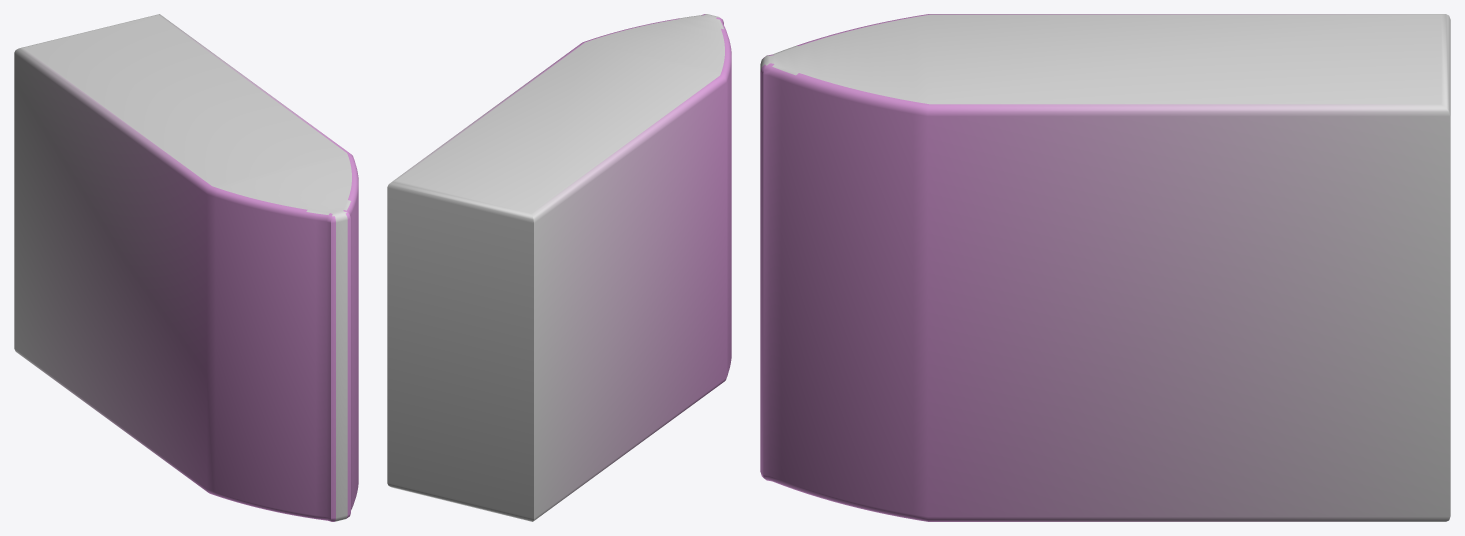
File: Kit_Lock_Latchbolt_Bored_DA.fbx
3 views of the same model, side by side, from view 1: azimuth 30°, elevation 25°; view 2: azimuth 150°, elevation 25°; view 3: azimuth 270°, elevation 25° (orthographic). The views are drawn at different scales.
Visible parts, largest first — view 1: Kit_Lock_Latchbolt_Bored_DA_LOD0; view 2: Kit_Lock_Latchbolt_Bored_DA_LOD0; view 3: Kit_Lock_Latchbolt_Bored_DA_LOD0.
Part boxes in pixels (left/top/right/bottom): Kit_Lock_Latchbolt_Bored_DA_LOD0: left=14, top=14, right=358, bottom=521; Kit_Lock_Latchbolt_Bored_DA_LOD0: left=387, top=14, right=731, bottom=521; Kit_Lock_Latchbolt_Bored_DA_LOD0: left=760, top=14, right=1450, bottom=521.
Size of what is drawn, in the model's own units: 0.01 by 0.02 by 0.03.
